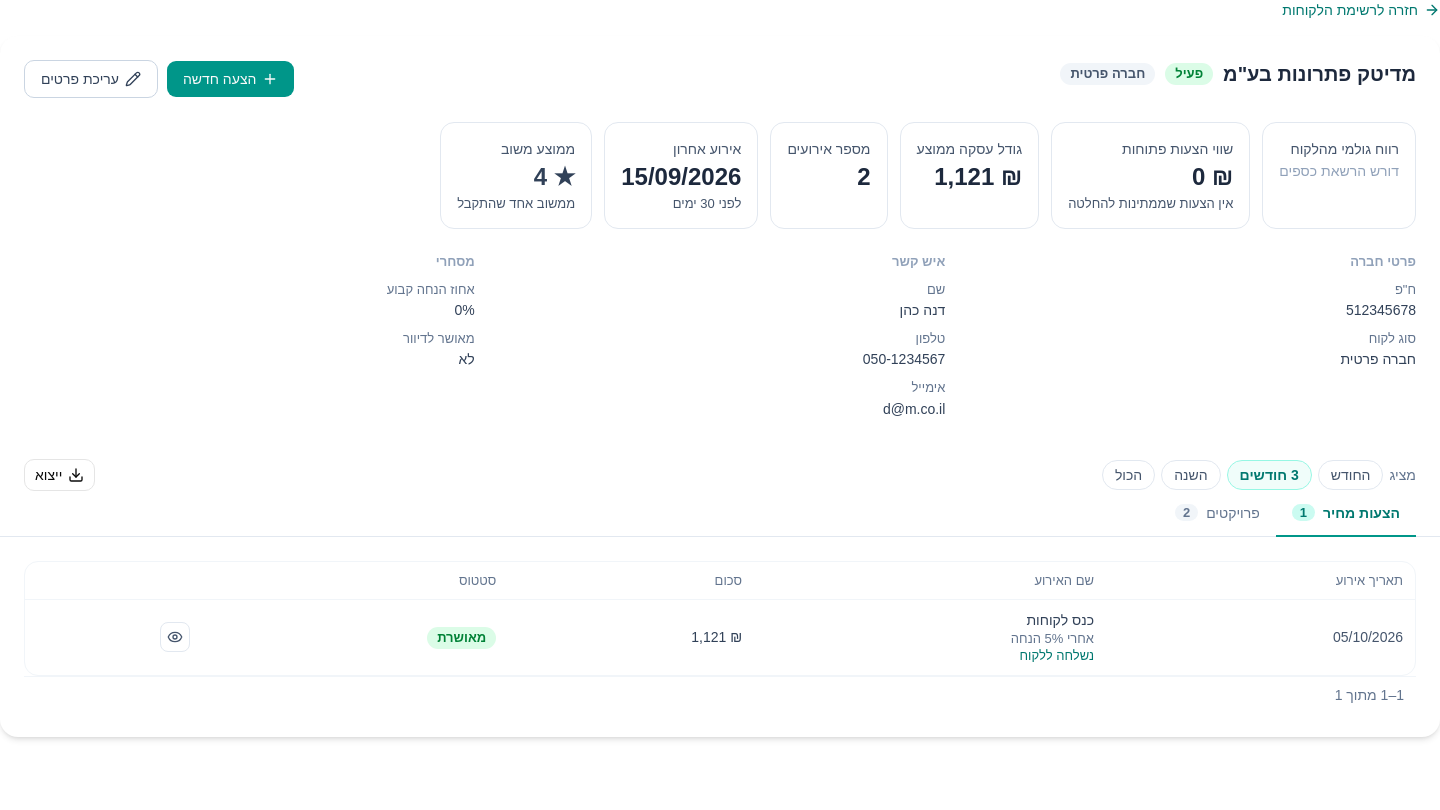
Test: CustomerDetailsPage — חיבור לחלון-הייצוא › 🔴 ציון-משוב יוצא רק כשהמשוב הושלם — כמו "—" על המסך
The width and height of the screenshot is (1440, 810).
Click the button with test id "customer-tab-projects": (1217, 514) x1=1159 y1=491 x2=1276 y2=537
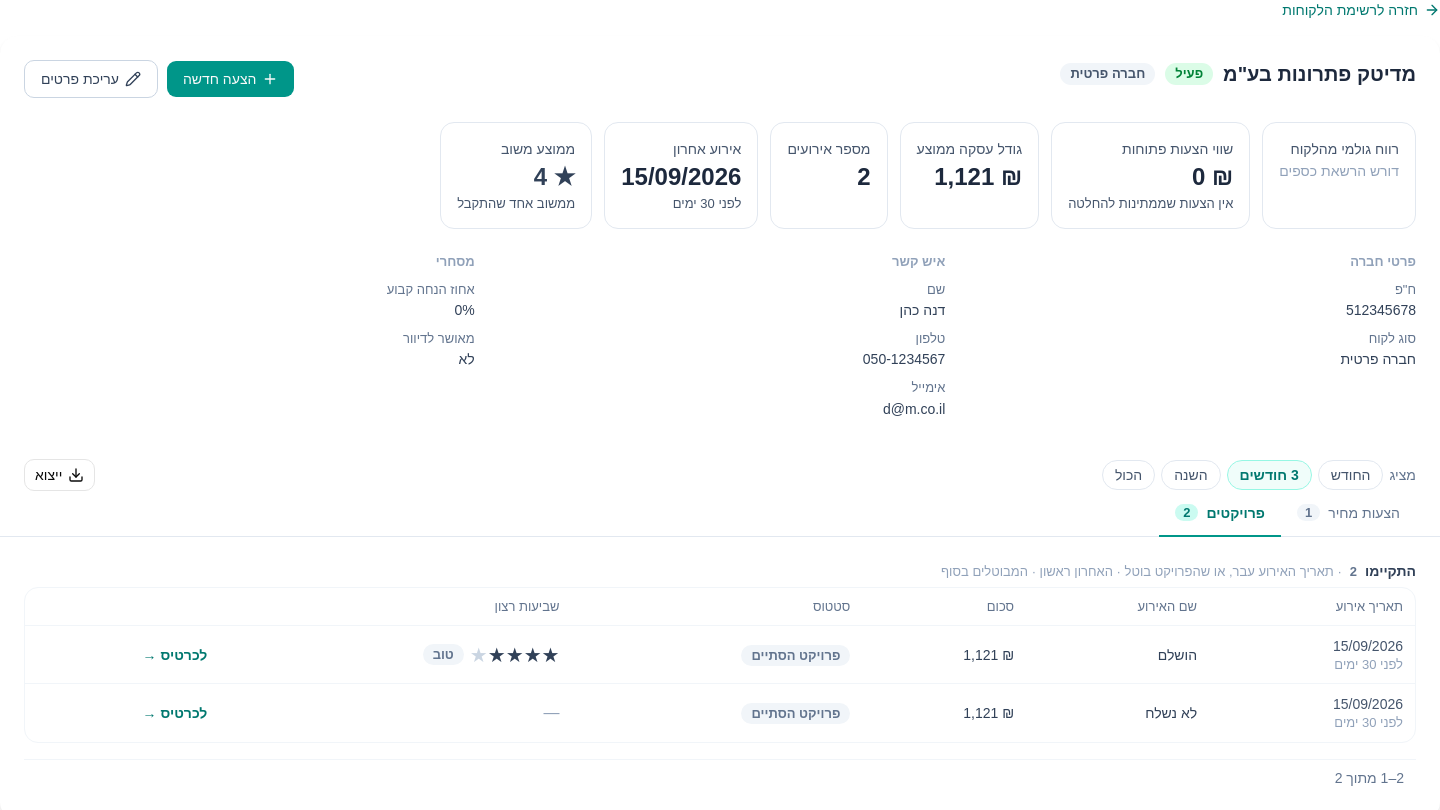
Click the button with test id "customer-export-button": (60, 475) x1=24 y1=459 x2=95 y2=491
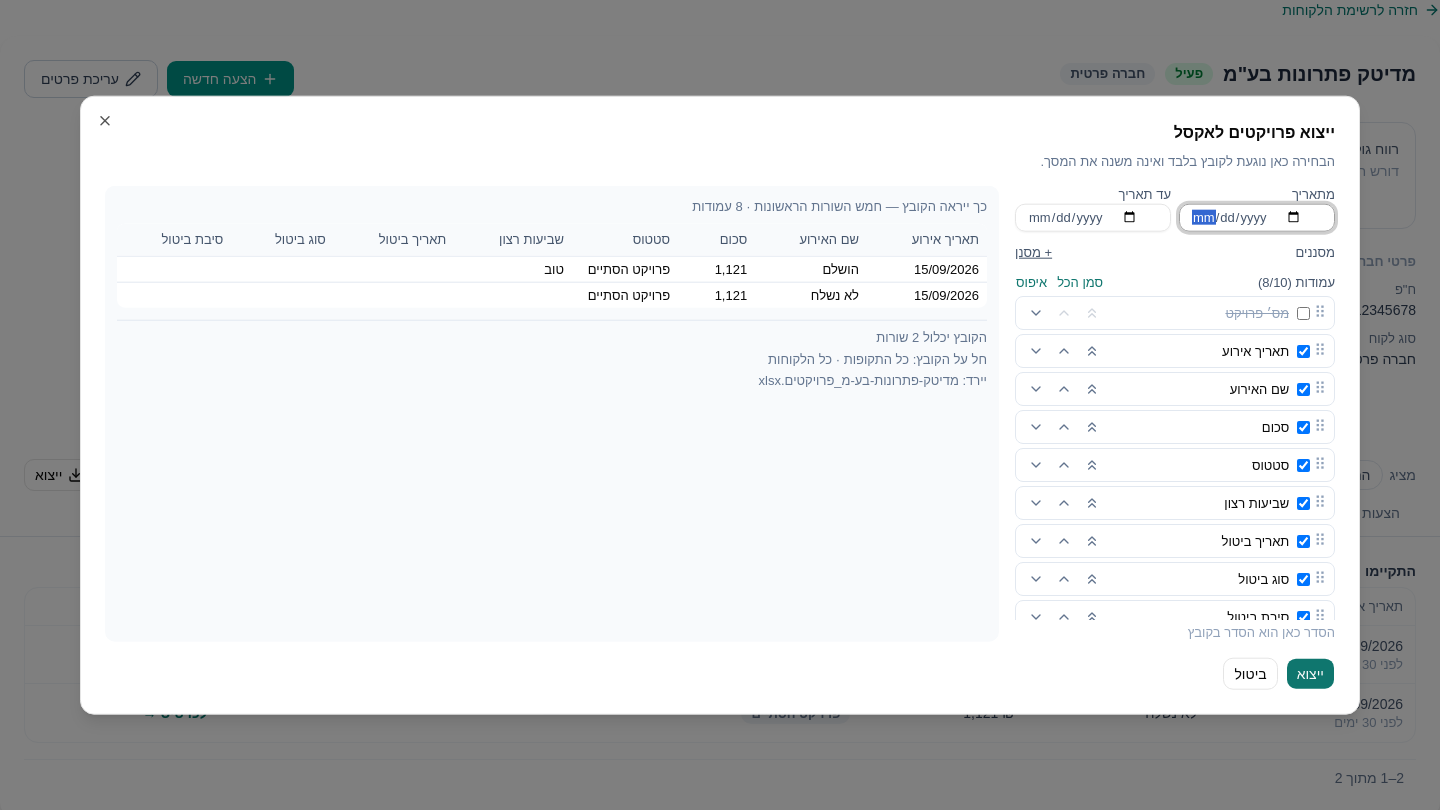
Now the text "הושלם" is shown, box x1=822 y1=261 x2=859 y2=276
Now the cell "טוב" is shown, box x1=454 y1=256 x2=572 y2=282
